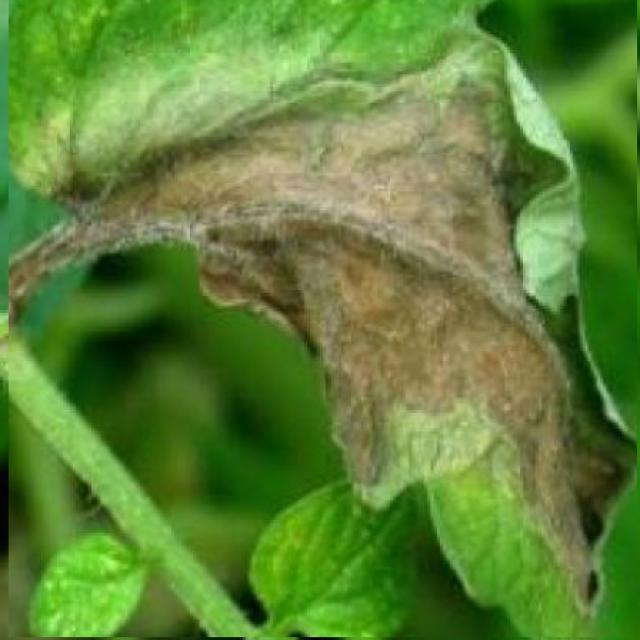Late Blight: (9, 0, 637, 637)
